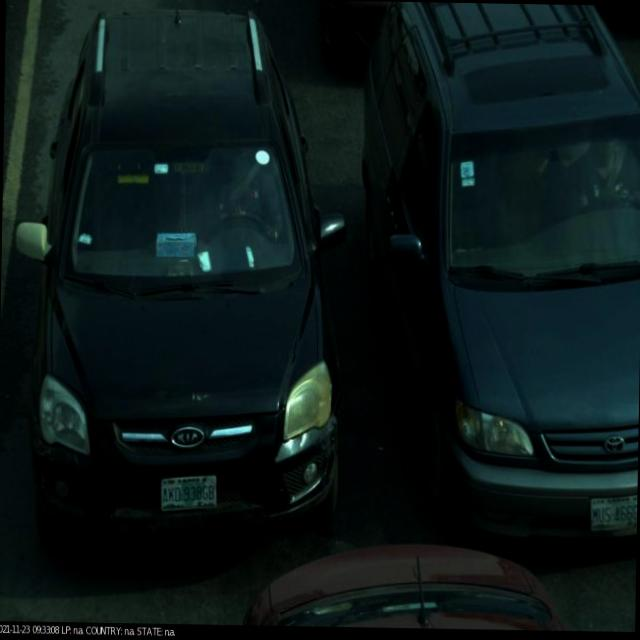person_with_seatbelt: (180, 146, 281, 264), (557, 117, 640, 234)
